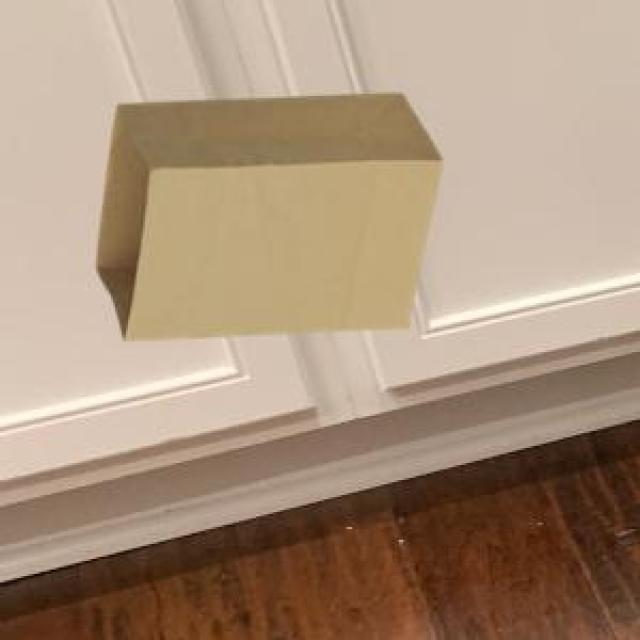paper: (94, 90, 437, 337)
